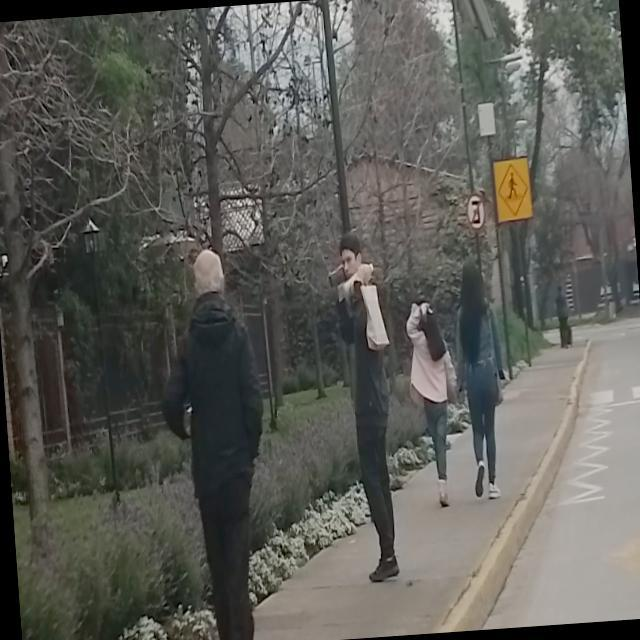person: (150, 243, 283, 640), (332, 231, 406, 588), (445, 258, 512, 503), (402, 302, 464, 512)
